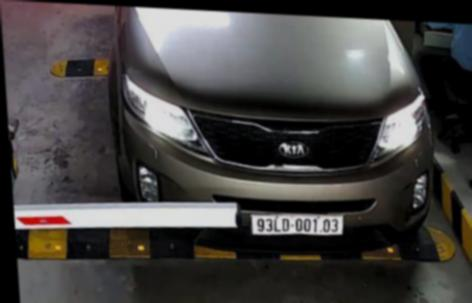License_Plate: (245, 208, 346, 241)
